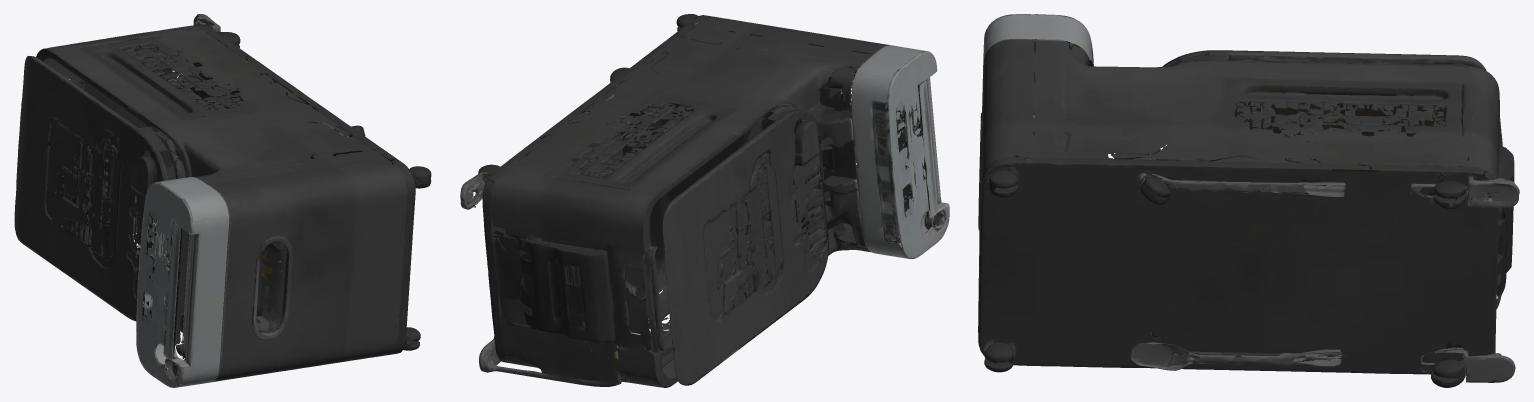
Rendered from trellis2.glb.
3 renders of one model, left to right at view 1: azimuth 30°, elevation 25°; view 2: azimuth 150°, elevation 25°; view 3: azimuth 270°, elevation 25°, orthographic. The views are drawn at different scales.
Visible parts, largest first — view 1: world; view 2: world; view 3: world.
Boxes of the visible parts, x1,y1,x2,y2 form: world: (14, 14, 431, 387); world: (460, 14, 949, 387); world: (978, 14, 1519, 387).
Bounding box in the file's own units: 0.6452 × 0.5022 × 1.
Materials: 1 (1 with a texture image).
